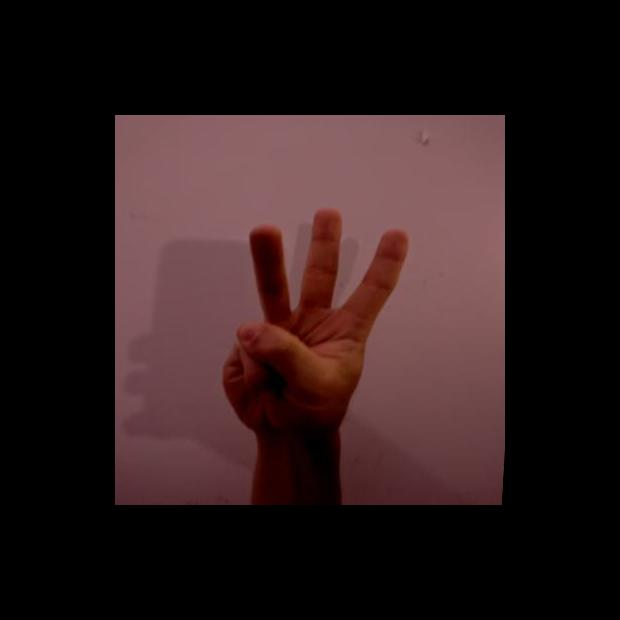V: (215, 198, 415, 444)
